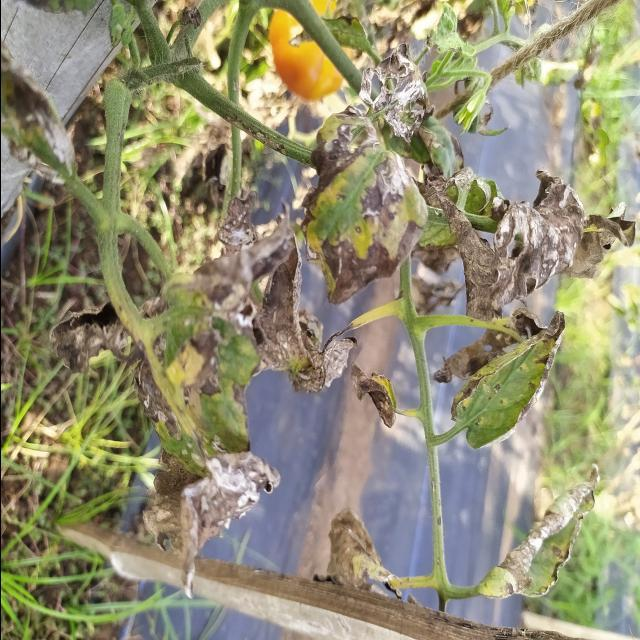Tomato mosaic virus leaf: (448, 304, 570, 454)
